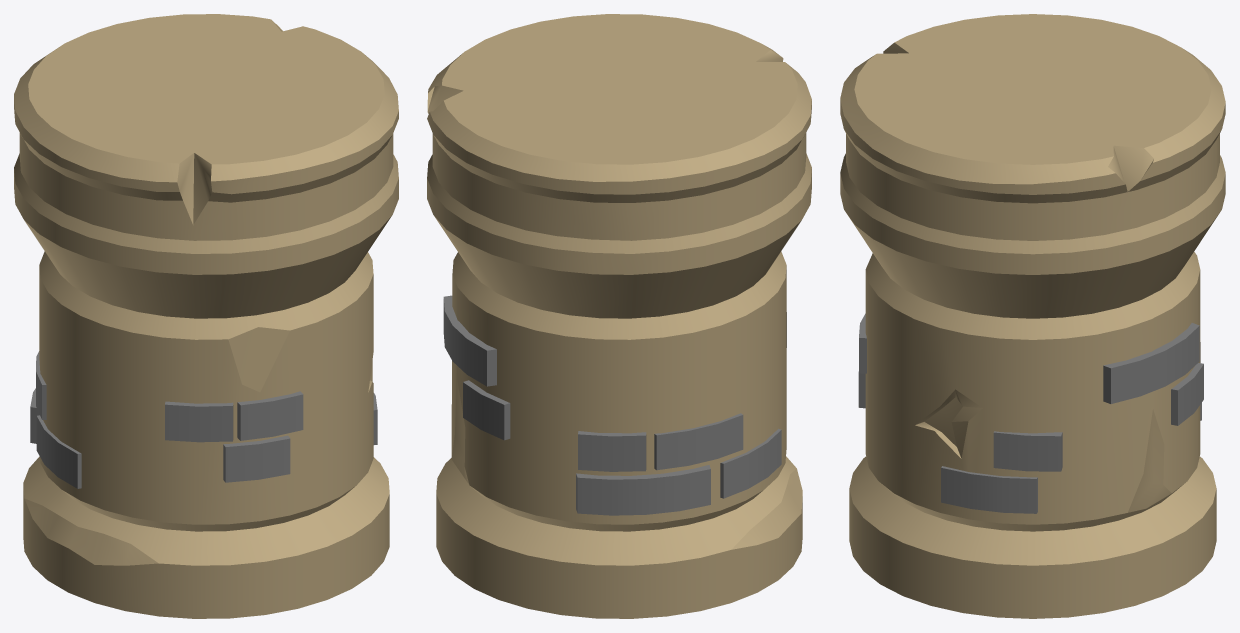
Rendered from pedestal_1m (1).fbx.
3 views of the same model, side by side, from view 1: azimuth 30°, elevation 25°; view 2: azimuth 150°, elevation 25°; view 3: azimuth 270°, elevation 25° (orthographic).
Visible parts, largest first — view 1: pedestal_round_1m; view 2: pedestal_round_1m; view 3: pedestal_round_1m.
Boxes of the visible parts, left/top/right/bottom form: pedestal_round_1m: left=14, top=14, right=398, bottom=618; pedestal_round_1m: left=427, top=14, right=811, bottom=618; pedestal_round_1m: left=840, top=14, right=1225, bottom=618.
Size of the model in its own units: 0.7807 by 1.01 by 0.7807.
